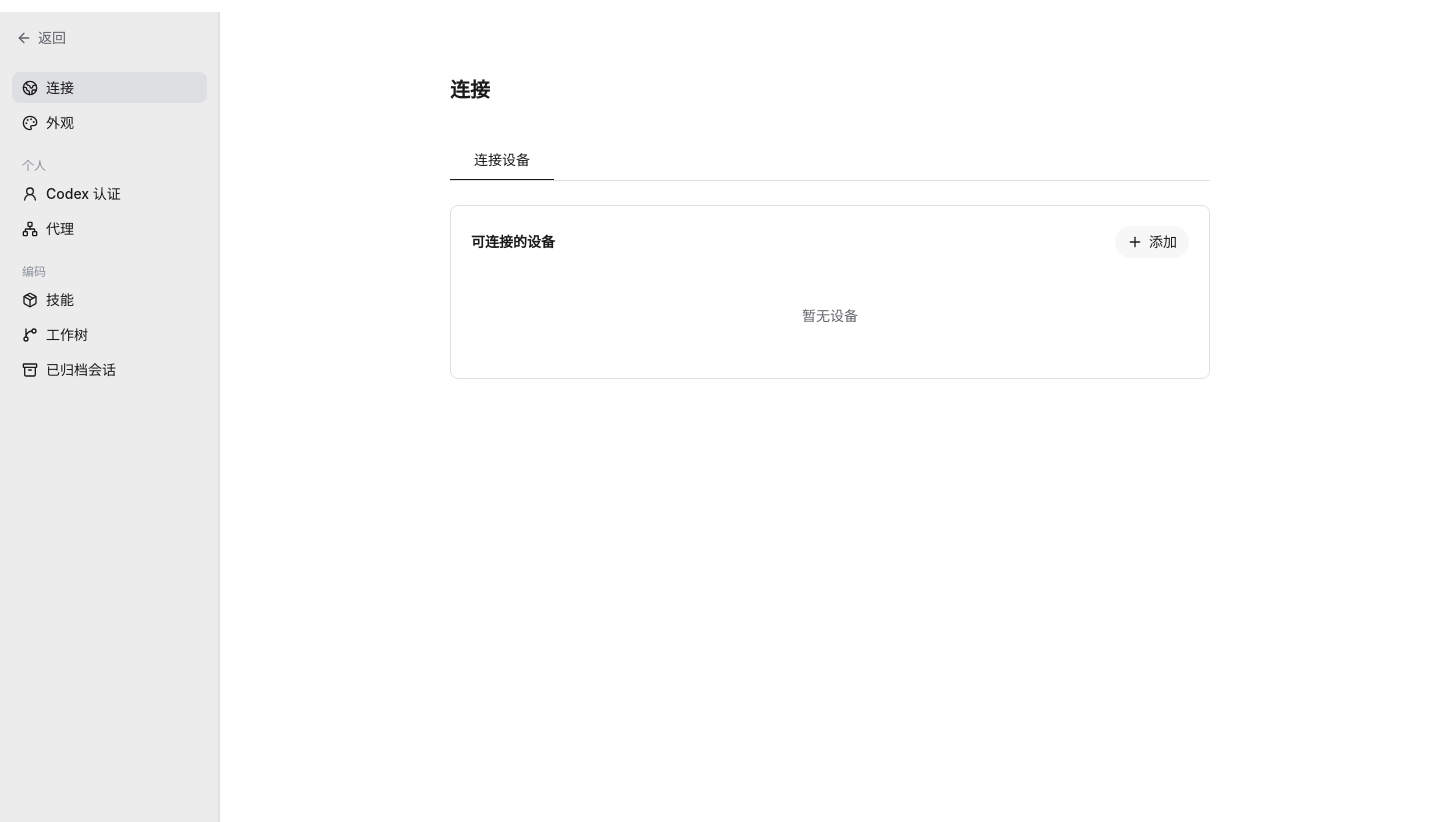
Test: ConnectionsSettingsPage › opens appearance settings from desktop settings navigation
The image size is (1440, 822).
Click the button with test id "settings-nav-appearance": {"x": 110, "y": 122} x1=12 y1=107 x2=207 y2=138
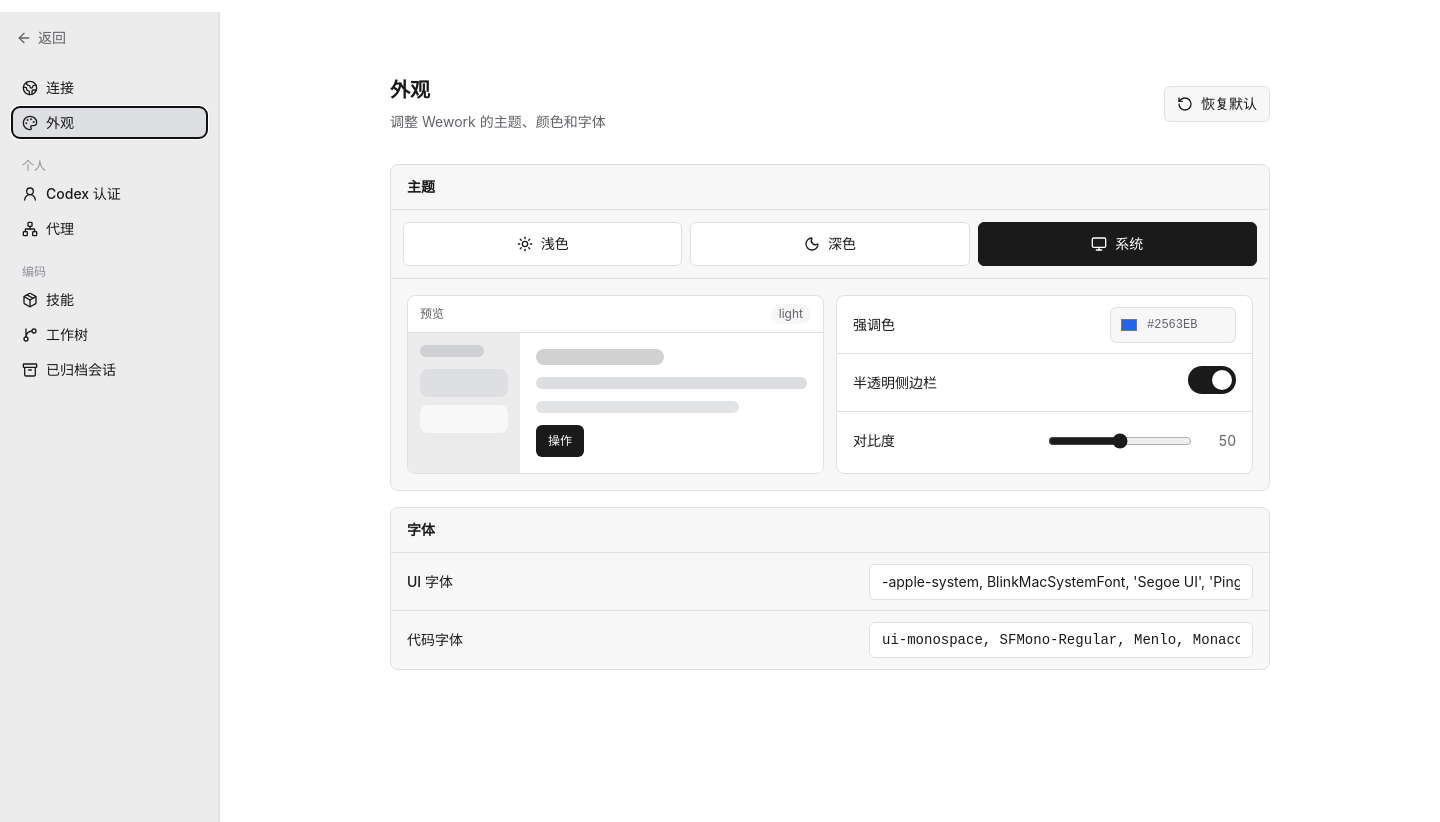
Check: the element with test id "appearance-settings-page" is shown, box x1=390 y1=76 x2=1270 y2=710
Check: the button with test id "appearance-mode-system" is shown, box x1=978 y1=222 x2=1257 y2=266
